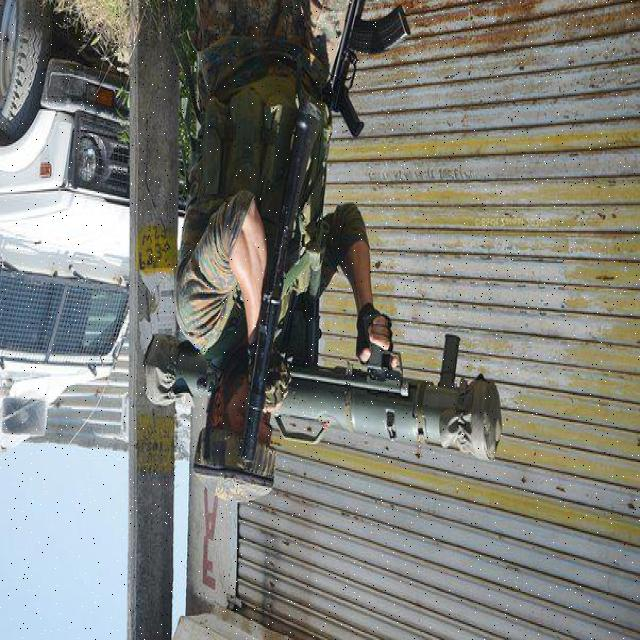bazooka: (142, 326, 509, 469)
